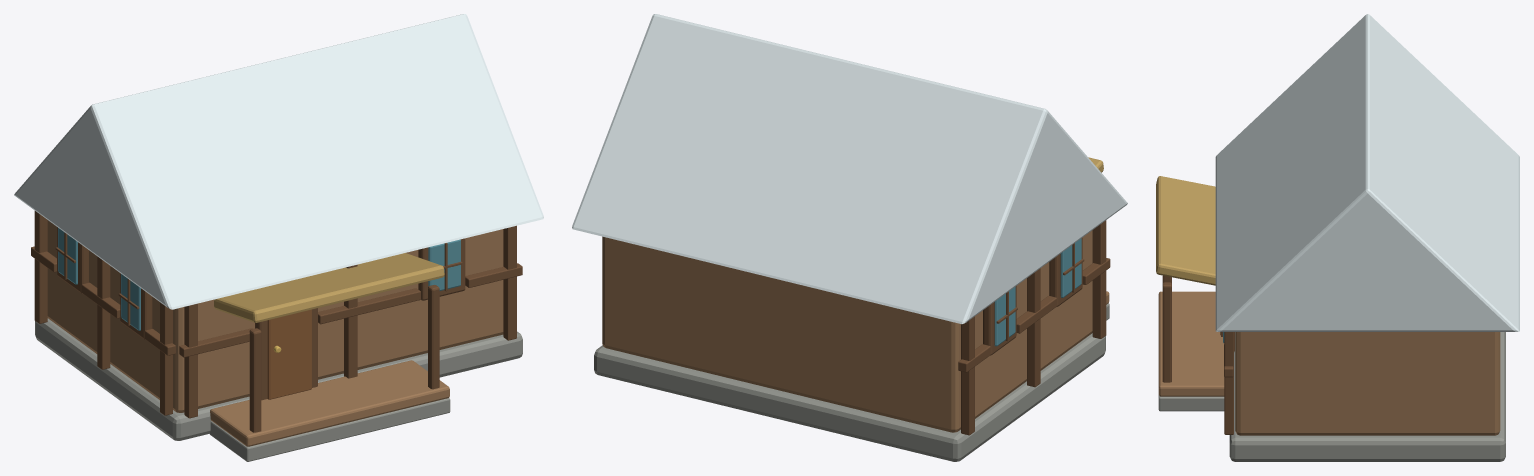
File: snowy-farmstead-0.glb
The picture shows the model from 3 angles, left to right: view 1: azimuth 30°, elevation 25°; view 2: azimuth 150°, elevation 25°; view 3: azimuth 270°, elevation 25°; orthographic projection. The views are drawn at different scales.
Visible parts, largest first — view 1: Snow, Aged oak, Dark beams, Foundation stone, Golden thatch, Door oak, Blue glass; view 2: Snow, Aged oak, Foundation stone, Dark beams, Blue glass; view 3: Snow, Aged oak, Foundation stone, Golden thatch, Dark beams.
Part boxes in pixels (bbox=[...]): Snow: bbox=[14, 14, 543, 309]; Aged oak: bbox=[47, 220, 503, 446]; Dark beams: bbox=[31, 211, 522, 432]; Foundation stone: bbox=[35, 318, 522, 461]; Golden thatch: bbox=[214, 253, 444, 322]; Door oak: bbox=[267, 309, 311, 399]; Blue glass: bbox=[58, 228, 460, 330]; Snow: bbox=[572, 14, 1127, 324]; Aged oak: bbox=[602, 230, 1109, 432]; Foundation stone: bbox=[594, 303, 1109, 461]; Dark beams: bbox=[958, 220, 1110, 435]; Blue glass: bbox=[994, 238, 1081, 346]; Snow: bbox=[1215, 14, 1519, 331]; Aged oak: bbox=[1158, 291, 1500, 435]; Foundation stone: bbox=[1158, 332, 1505, 461]; Golden thatch: bbox=[1156, 176, 1215, 285]; Dark beams: bbox=[1162, 275, 1234, 434].
Size of the model in its own units: 4.44 by 3.27 by 3.85.
